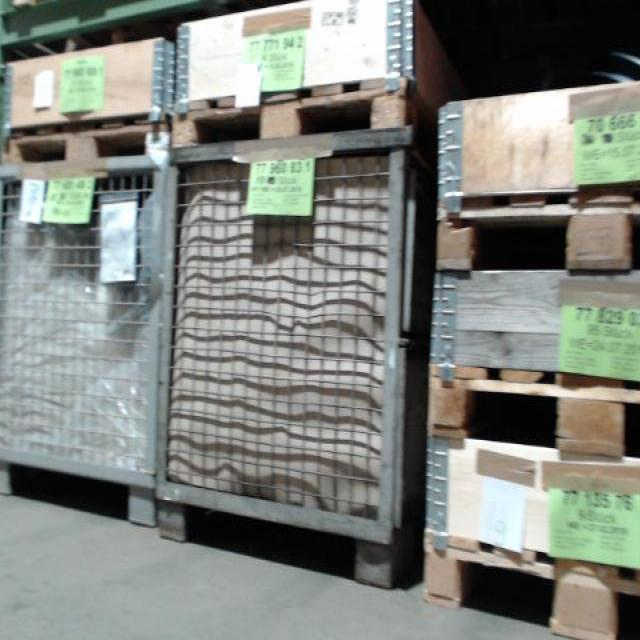pallet: (417, 529, 640, 640), (423, 363, 640, 466), (171, 80, 442, 151), (434, 185, 640, 278), (0, 107, 171, 169)
stillage: (162, 118, 453, 590), (0, 138, 173, 530)
